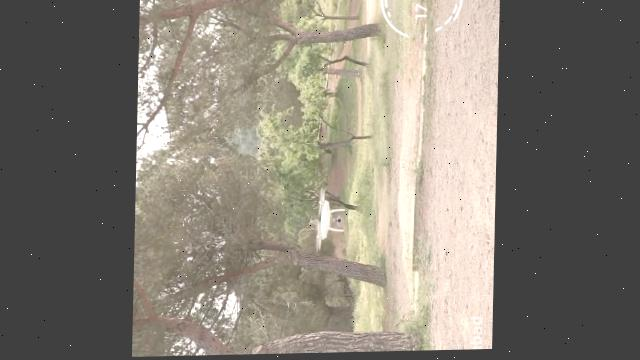drone: (314, 186, 348, 254)
